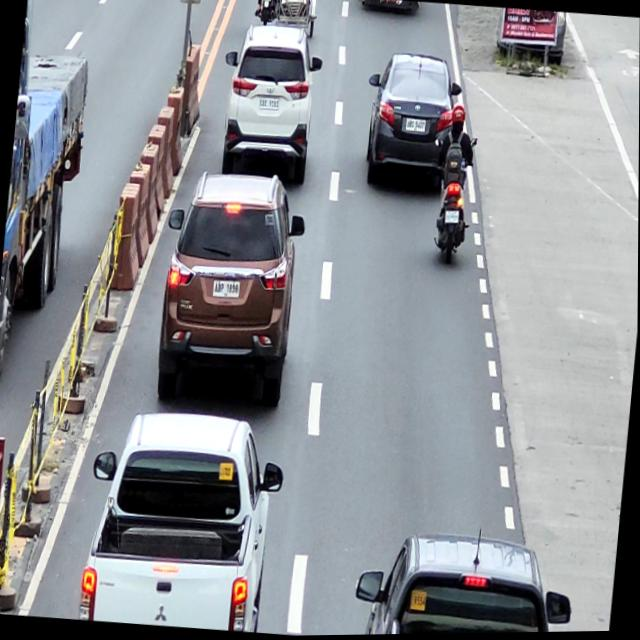Car: (79, 402, 289, 636), (151, 168, 308, 414), (352, 524, 578, 636), (214, 23, 324, 190), (359, 51, 466, 197)
License-Plate: (212, 280, 240, 300), (258, 98, 280, 112), (406, 118, 426, 133), (445, 211, 460, 227), (262, 0, 271, 1)
Motorcycle: (424, 135, 479, 269)
Tricycle: (255, 0, 318, 39)
Truck: (0, 0, 100, 393)
